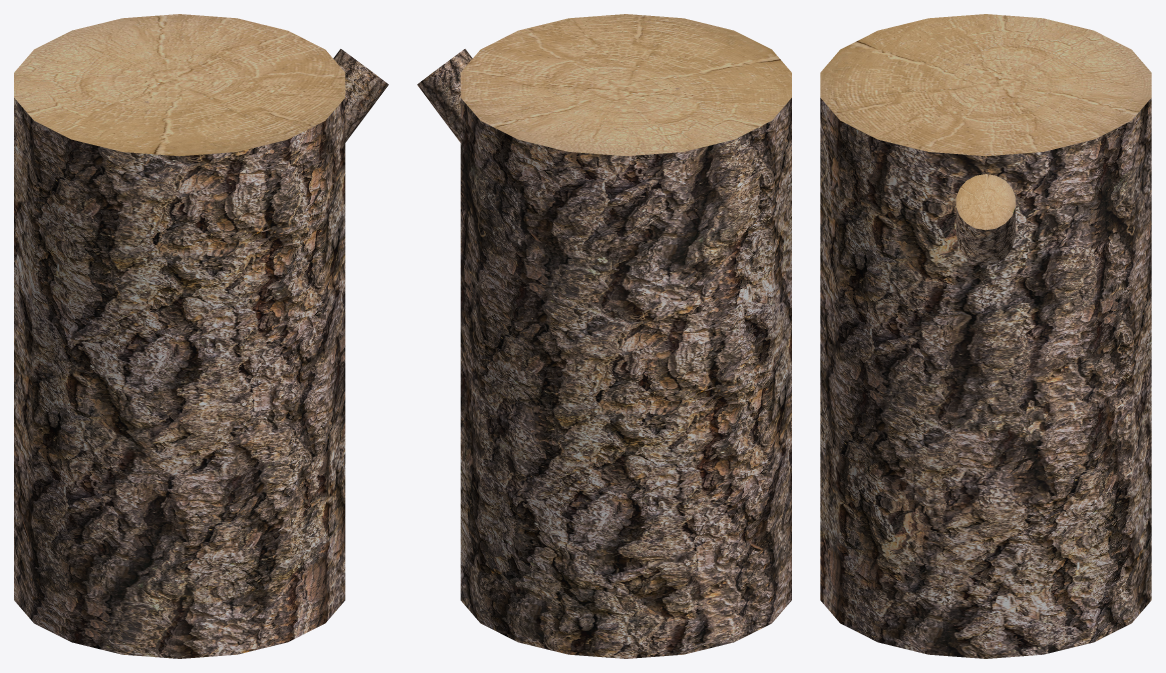
File: activa 2.FBX
The picture shows the model from 3 angles, left to right: view 1: azimuth 30°, elevation 25°; view 2: azimuth 150°, elevation 25°; view 3: azimuth 270°, elevation 25°; orthographic projection.
Parts seen in each view (by area): view 1: Cylinder001, tronco, Cylinder002; view 2: Cylinder001, tronco, Cylinder002; view 3: Cylinder001, tronco, Cylinder002.
Boxes of the visible parts, x1,y1,x2,y2 form: Cylinder001: (14, 98, 345, 658); tronco: (14, 14, 345, 156); Cylinder002: (333, 49, 388, 142); Cylinder001: (460, 98, 791, 658); tronco: (460, 14, 791, 156); Cylinder002: (417, 49, 472, 142); Cylinder001: (820, 98, 1151, 658); tronco: (820, 14, 1151, 229); Cylinder002: (956, 208, 1015, 265).
Size of the model in its own units: 23.85 by 32.76 by 19.57.
